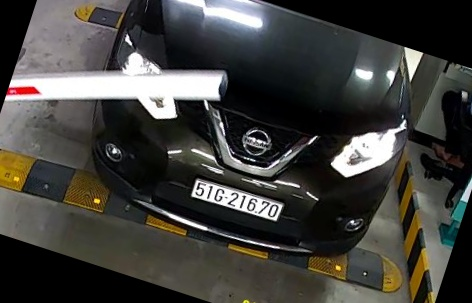plate: (192, 172, 291, 228)
